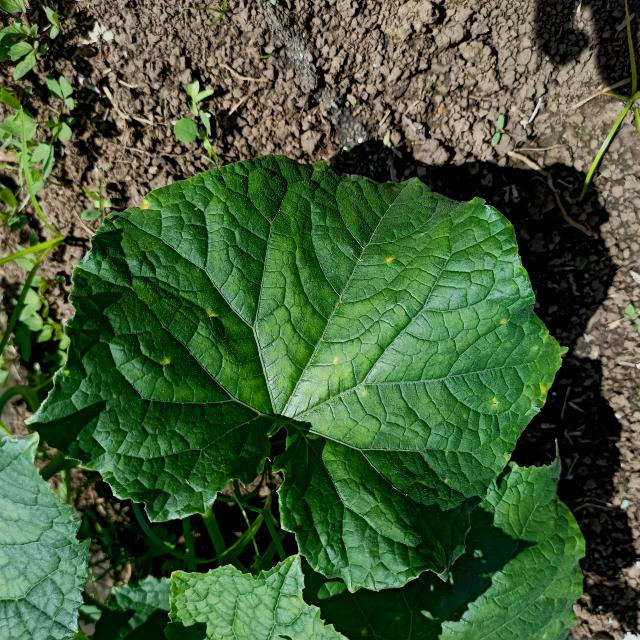disease_cucumber: (538, 384, 552, 402), (141, 202, 155, 211), (206, 311, 219, 318), (385, 256, 395, 264), (162, 358, 170, 366), (492, 398, 500, 406), (333, 357, 339, 363), (64, 370, 70, 376), (361, 391, 366, 396), (501, 320, 506, 324), (506, 457, 510, 462), (445, 450, 449, 453)
